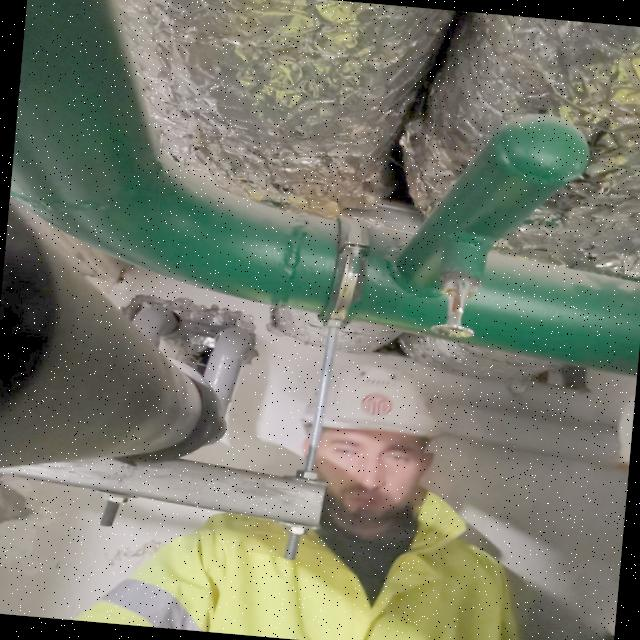Helmet: (291, 356, 449, 531)
